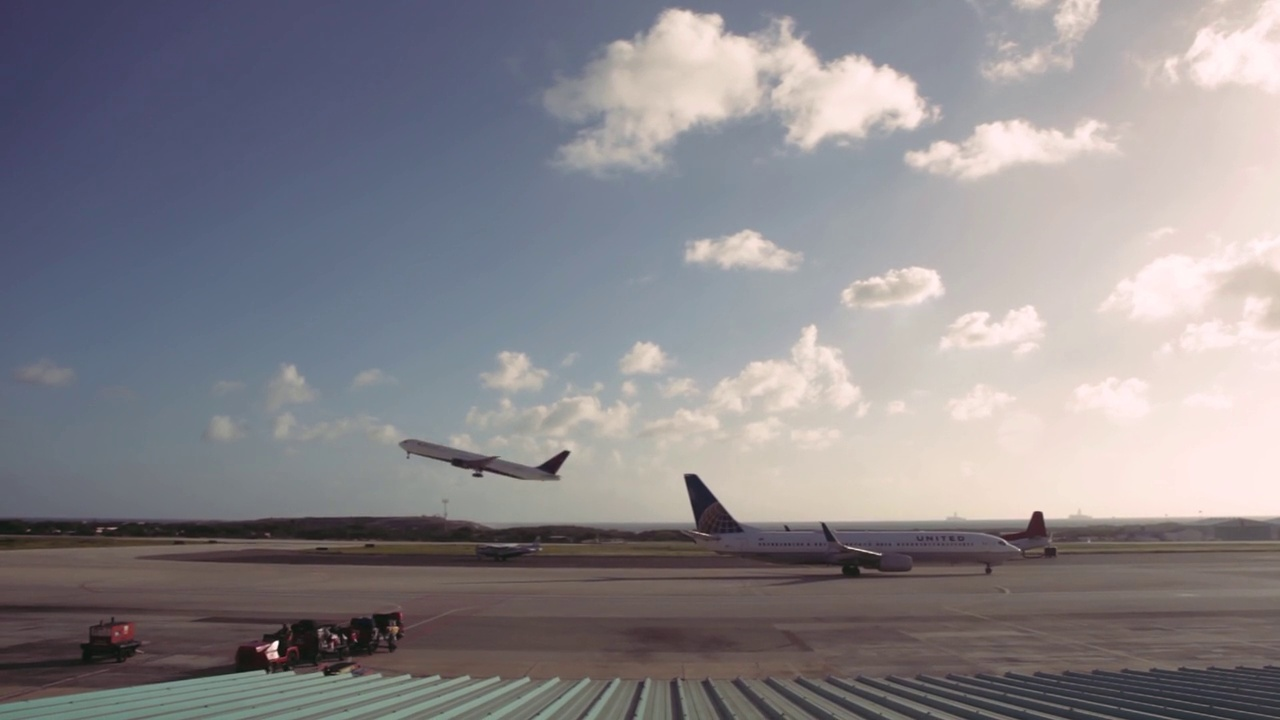plane: (677, 473, 1025, 577), (399, 437, 572, 480), (472, 538, 541, 561)
